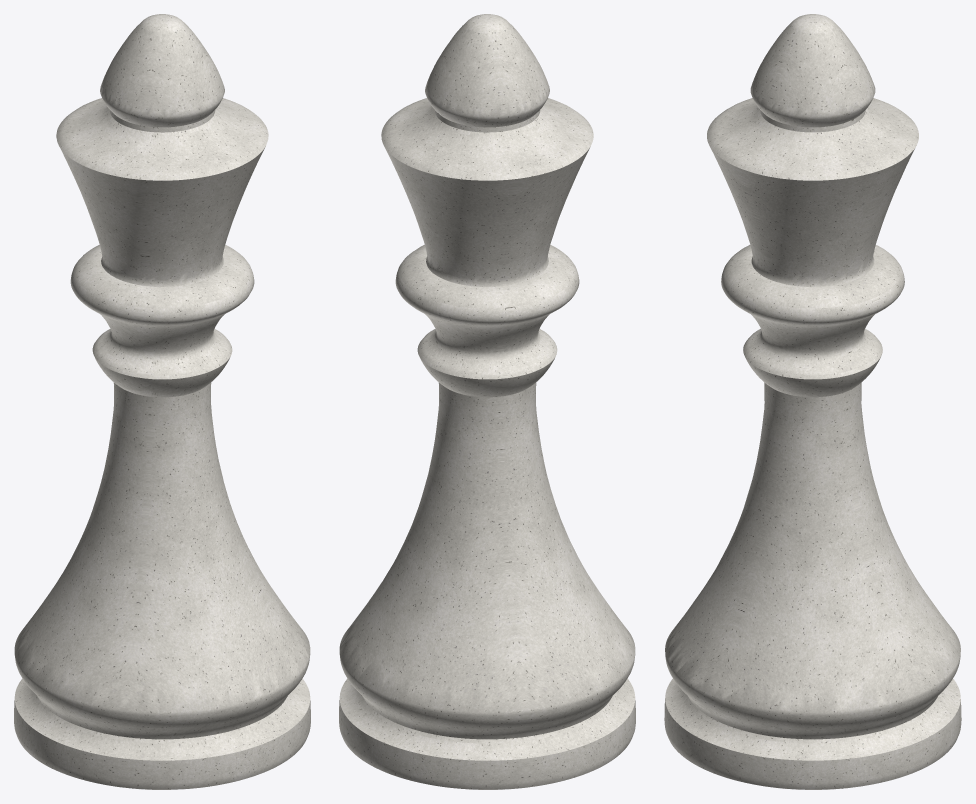
File: king-white-hd.glb
3 renders of one model, left to right at view 1: azimuth 30°, elevation 25°; view 2: azimuth 150°, elevation 25°; view 3: azimuth 270°, elevation 25°, orthographic.
Visible parts, largest first — view 1: kral_bila; view 2: kral_bila; view 3: kral_bila.
Boxes of the visible parts, left/top/right/bottom form: kral_bila: left=14, top=14, right=310, bottom=789; kral_bila: left=339, top=14, right=635, bottom=789; kral_bila: left=664, top=14, right=961, bottom=789.
Bounding box in the file's own units: 0.6172 × 1.65 × 0.6172.
Materials: 1 (1 with a texture image).
